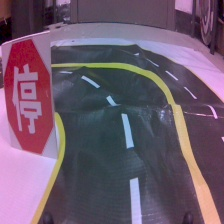stop: (2, 31, 60, 159)
